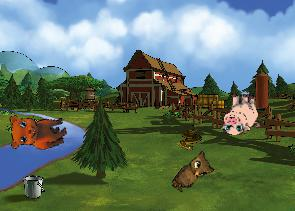bear: (4, 103, 70, 156)
owl: (169, 147, 219, 201)
pig: (220, 92, 260, 135)
